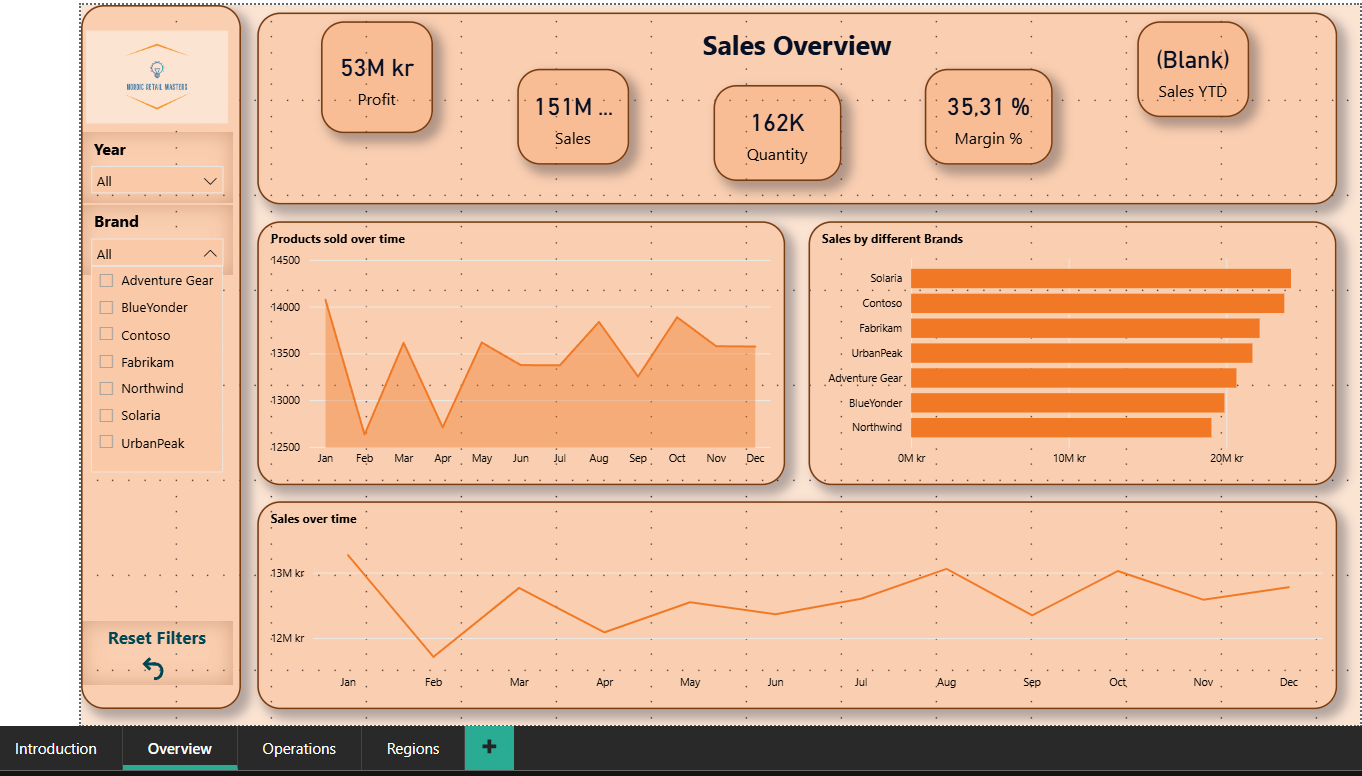

The page's visual inventory and layout, read from the dashboard file:
{"tool":"powerbi","page":{"name":"Overview","canvas":[1280,720],"ordinal":1},"visuals":[{"type":"image","box":[0,0,152,144],"z":0},{"type":"textbox","title":"Title Overview","box":[176,8,1080,192],"z":1000},{"type":"card","title":"sales","fields":{"Values":["_Measures (2).Sales"]},"box":[436,64,112,96],"z":2000},{"type":"card","title":"profits","fields":{"Values":["_Measures (2).Profit"]},"box":[240,16,112,112],"z":3000},{"type":"areaChart","title":"Products sold over time","fields":{"Category":["Date.Year","Date.Month"],"Y":["Sum(FactSales.Quantity)"]},"box":[176,216,528,264],"z":4000},{"type":"card","title":"kpi profit margin","fields":{"Values":["_Measures (2).Margin %"]},"box":[844,64,128,96],"z":5000},{"type":"lineChart","title":"Sales over time","fields":{"Category":["Date.Month","Date.Year"],"Y":["_Measures (2).Sales"]},"box":[176,496,1080,208],"z":6000},{"type":"clusteredBarChart","title":"Sales by different Brands","fields":{"Category":["DimProducts.Brand"],"Y":["_Measures (2).Sales"]},"box":[728,216,528,264],"z":7000},{"type":"shape","title":"Main side-bar","box":[0,0,160,704],"z":8000},{"type":"slicer","title":"Slicer-Brand","fields":{"Values":["Date.Year"]},"box":[0,128,152,70],"z":9000},{"type":"slicer","title":"Slicer-Year","fields":{"Values":["DimProducts.Brand"]},"box":[0,200,152,70],"z":10000},{"type":"card","title":"Order amount","fields":{"Values":["_Measuresss.Quantity"]},"box":[632,80,128,96],"z":11000},{"type":"card","title":"profits","fields":{"Values":["FactSales.Sales YTD"]},"box":[1056,16,112,96],"z":12000},{"type":"actionButton","title":"Reset Button","box":[0,616,152,64],"z":13000},{"type":"actionButton","title":"pil knapp","box":[56,648,32,32],"z":14000}]}

Visuals, with their boxes on the page's 1280x720 design canvas (x1, y1, x2, y2). These are canvas units, not pixel positions in the 1362x776 screenshot, which may show the page scaled, cropped or inside an application window:
image: [left=0, top=0, right=152, bottom=144]
"Title Overview" textbox: [left=176, top=8, right=1256, bottom=200]
"sales" card: [left=436, top=64, right=548, bottom=160]
"profits" card: [left=240, top=16, right=352, bottom=128]
"Products sold over time" areaChart: [left=176, top=216, right=704, bottom=480]
"kpi profit margin" card: [left=844, top=64, right=972, bottom=160]
"Sales over time" lineChart: [left=176, top=496, right=1256, bottom=704]
"Sales by different Brands" clusteredBarChart: [left=728, top=216, right=1256, bottom=480]
"Main side-bar" shape: [left=0, top=0, right=160, bottom=704]
"Slicer-Brand" slicer: [left=0, top=128, right=152, bottom=198]
"Slicer-Year" slicer: [left=0, top=200, right=152, bottom=270]
"Order amount" card: [left=632, top=80, right=760, bottom=176]
"profits" card: [left=1056, top=16, right=1168, bottom=112]
"Reset Button" actionButton: [left=0, top=616, right=152, bottom=680]
"pil knapp" actionButton: [left=56, top=648, right=88, bottom=680]
